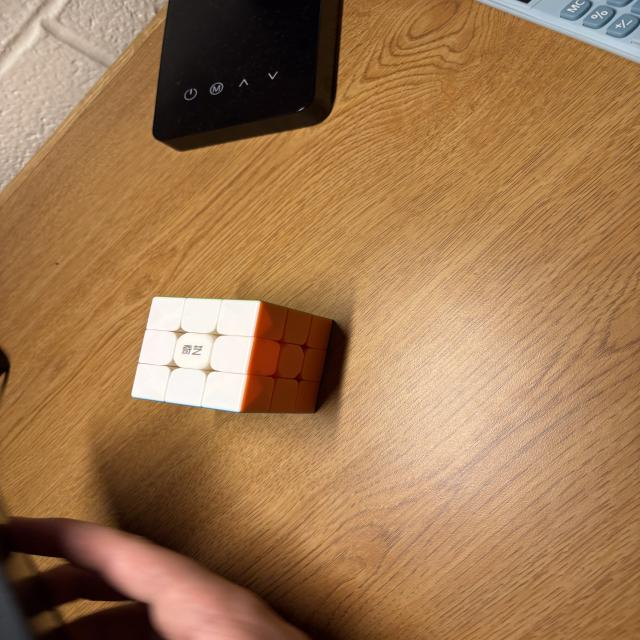Rubiks Cube: (131, 295, 332, 414)
